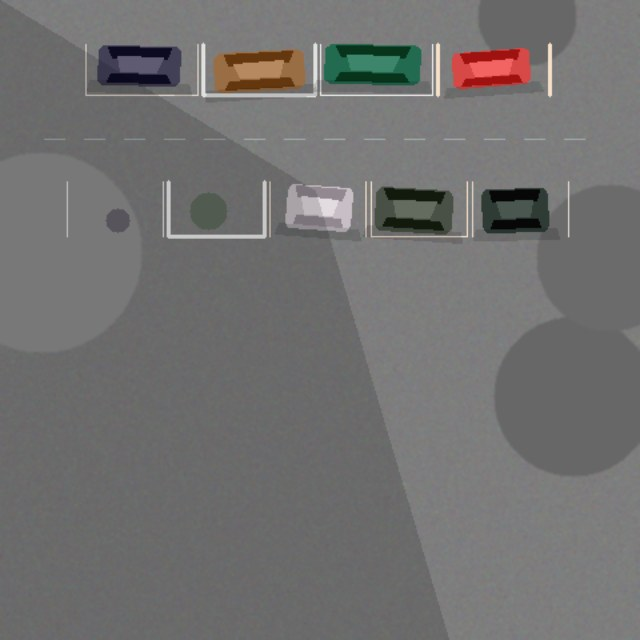space-empty: (67, 181, 163, 236), (168, 181, 264, 236)
space-occupied: (85, 44, 197, 95), (203, 44, 315, 95), (320, 44, 432, 95), (437, 44, 549, 95), (269, 181, 365, 236), (371, 181, 467, 236), (472, 181, 568, 236)
